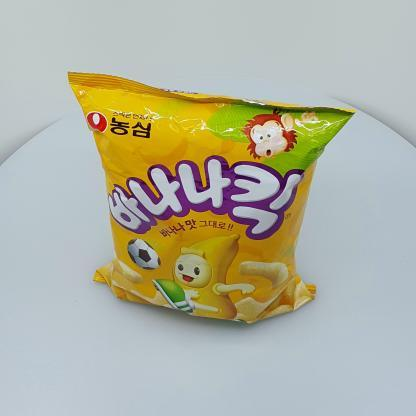Plastic Packaging: (62, 63, 362, 333)
